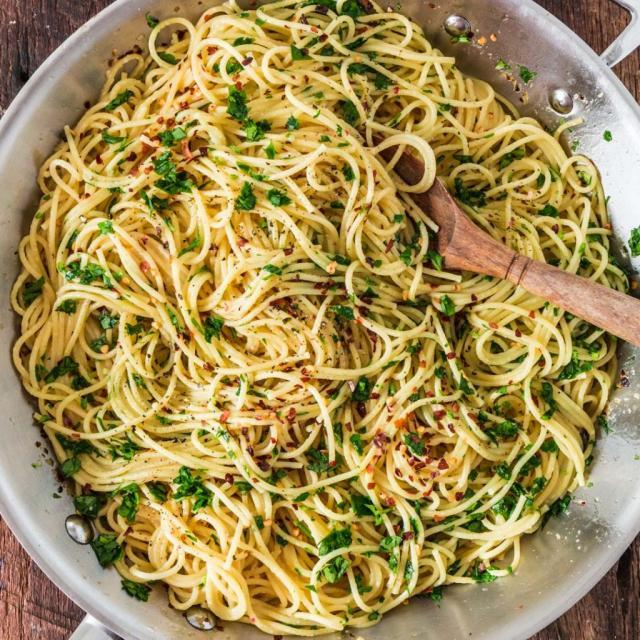Oil pasta: (34, 26, 640, 621)
